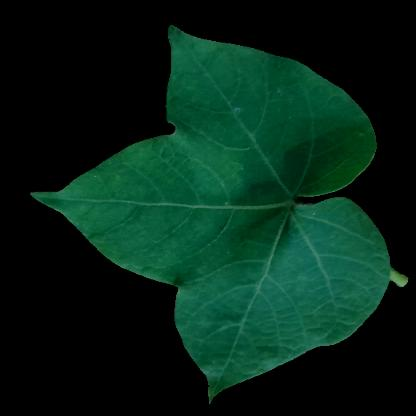healthy: (207, 206, 289, 363), (205, 58, 289, 201), (287, 214, 377, 329), (102, 156, 188, 251), (290, 99, 358, 178)
